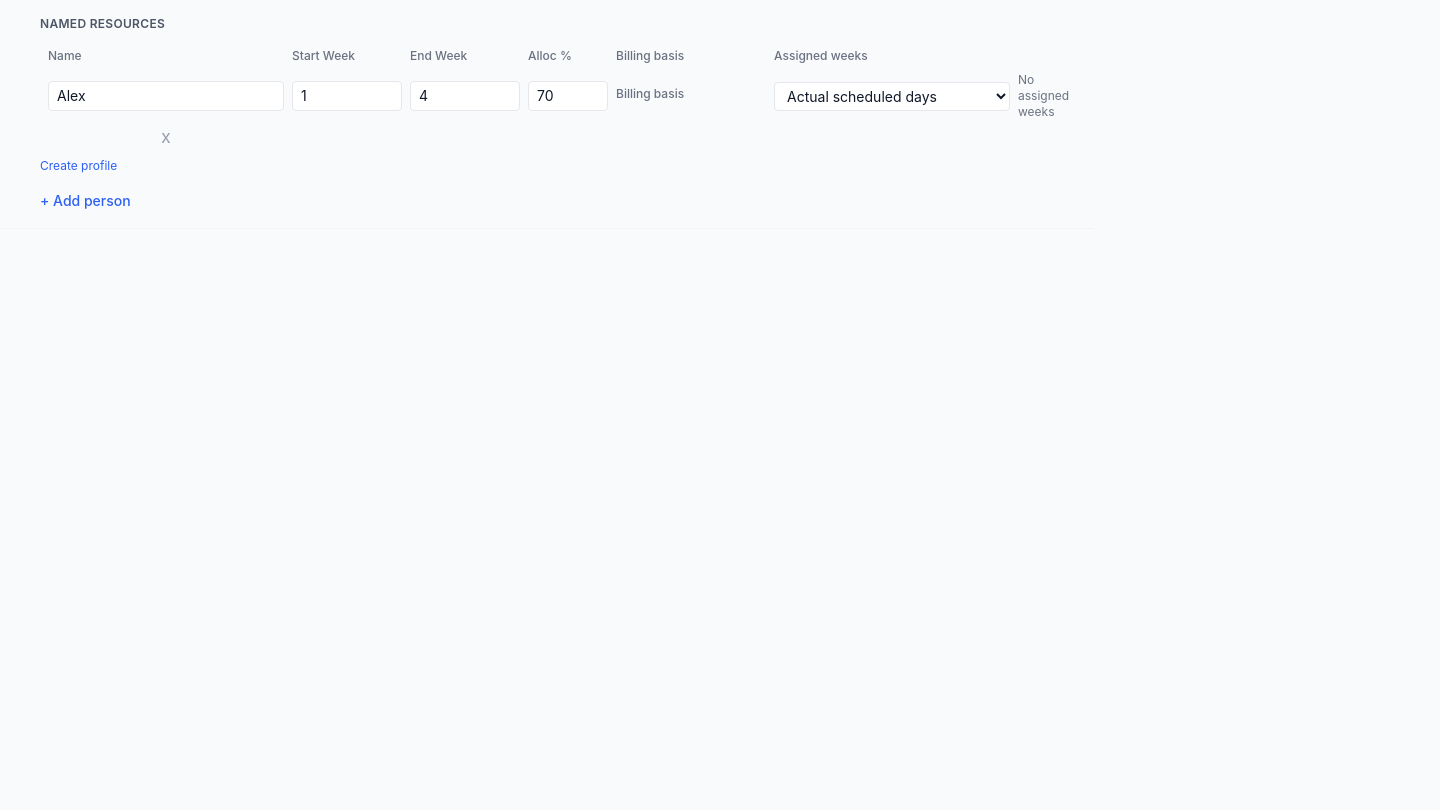
Test: NamedResourcesPanel first-class profile access › preserves the modal and edited draft after a failed save
The image size is (1440, 810).
Click the button "Create profile".
click(79, 166)  # box top-left (40, 158), bottom-right (117, 174)
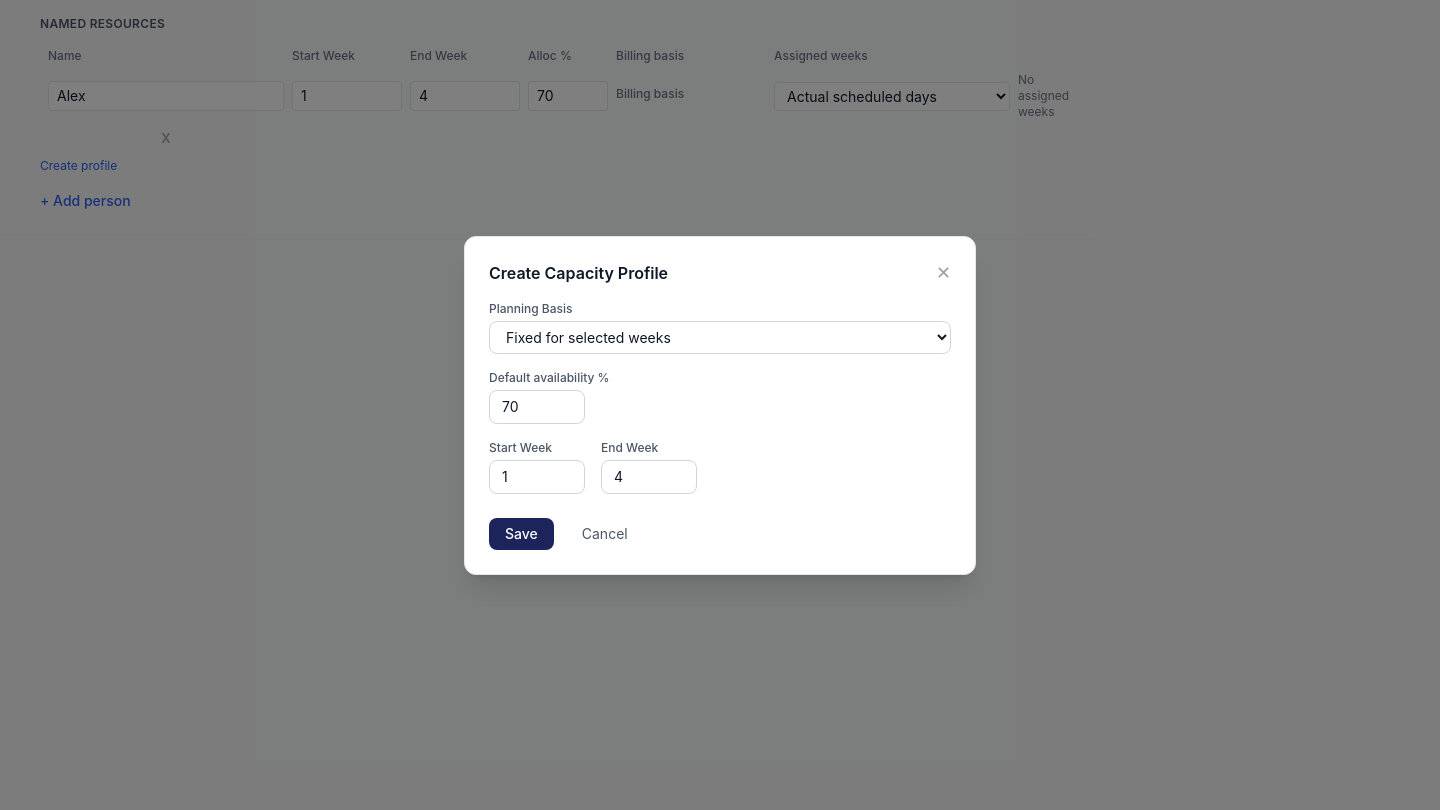
Replace the text in the number field with test id "cp-default-pct-input" with "82.5" at (537, 406), box top-left (489, 390), bottom-right (585, 424)
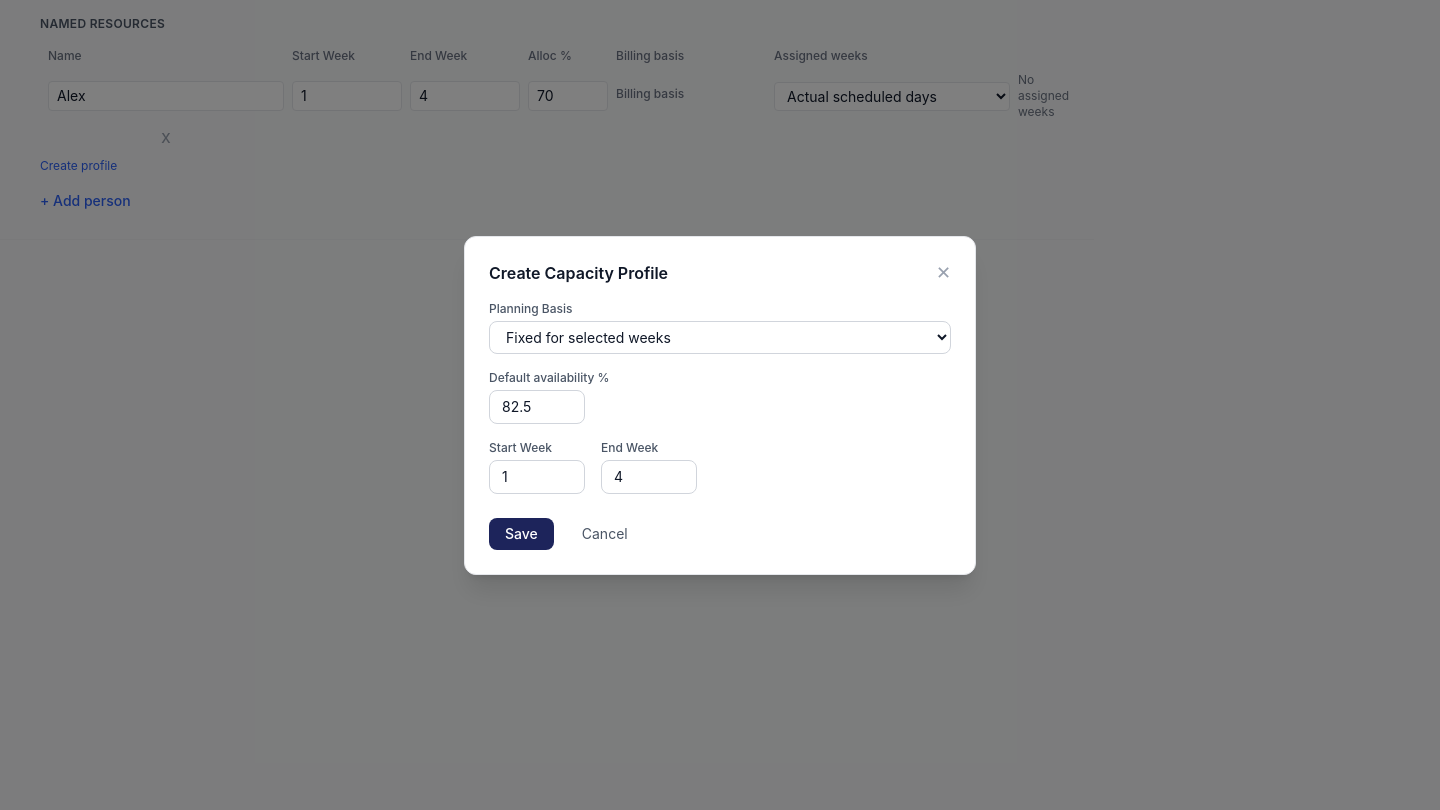
Click the button with test id "cp-save-btn".
click(521, 534)  # box top-left (489, 518), bottom-right (554, 550)
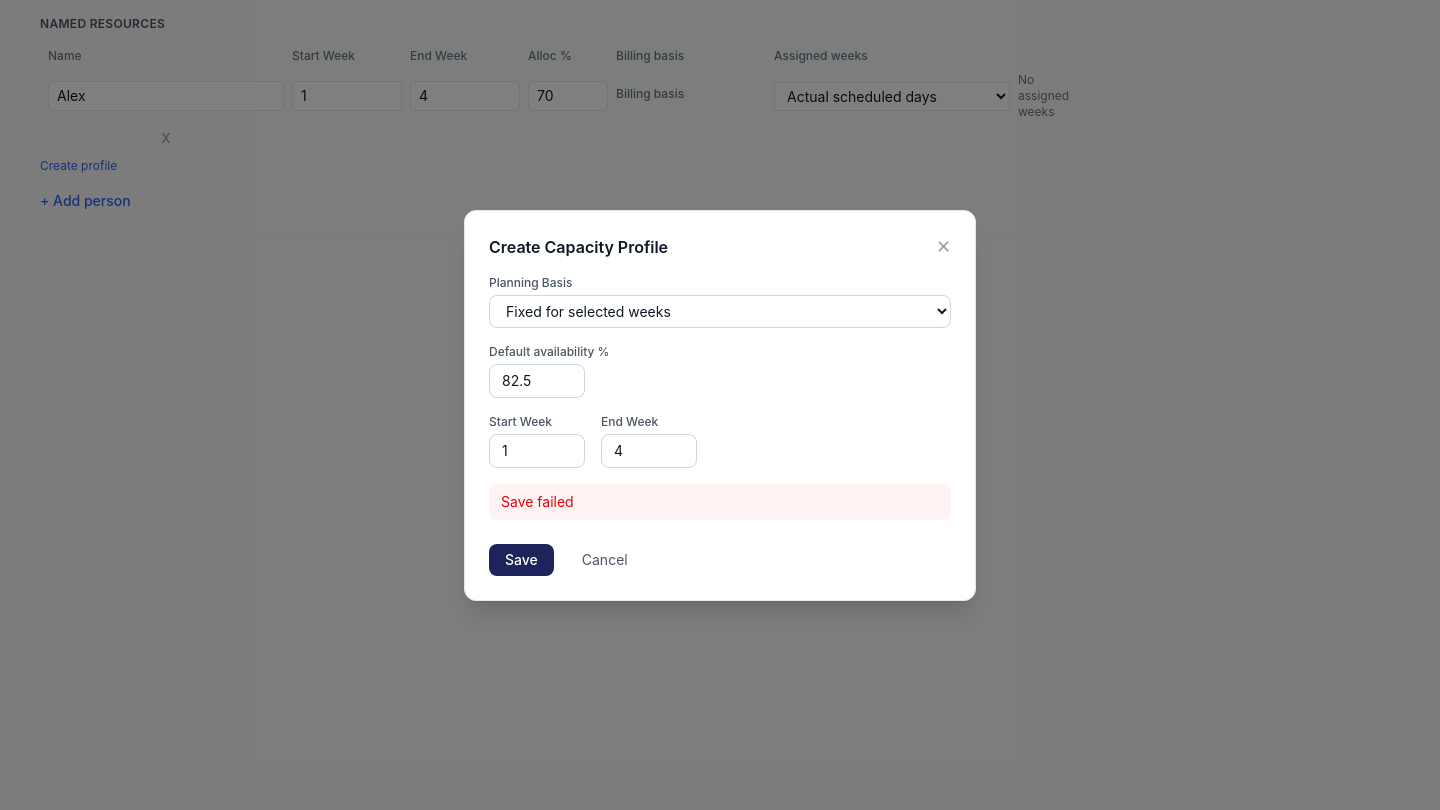
Expected: the heading "Create Capacity Profile" is shown, top-left (489, 234), bottom-right (668, 258)
Expected: the text "Save failed" is shown, top-left (489, 484), bottom-right (951, 520)
